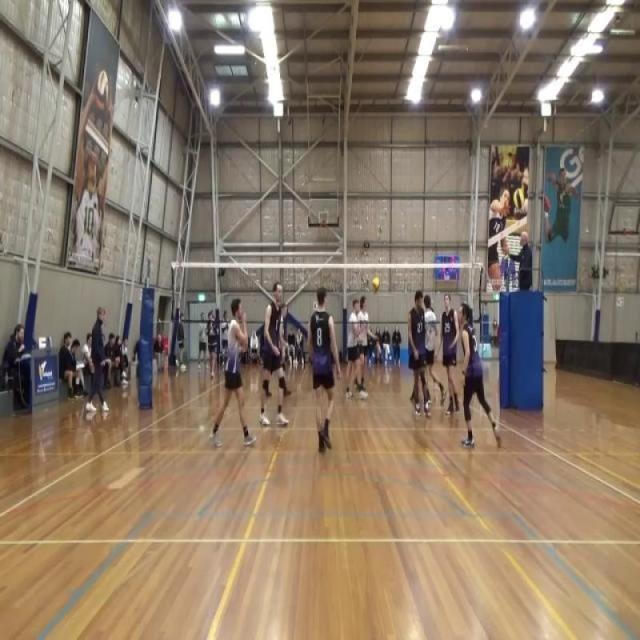volleyball: (94, 68, 110, 114), (512, 186, 526, 212), (371, 275, 382, 295)
